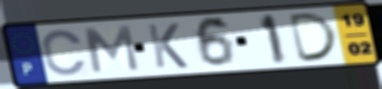1: (256, 13, 290, 67)
6: (192, 15, 238, 71)
C: (40, 28, 89, 77)
D: (287, 11, 342, 64)
K: (144, 22, 191, 70)
M: (82, 24, 142, 75)
